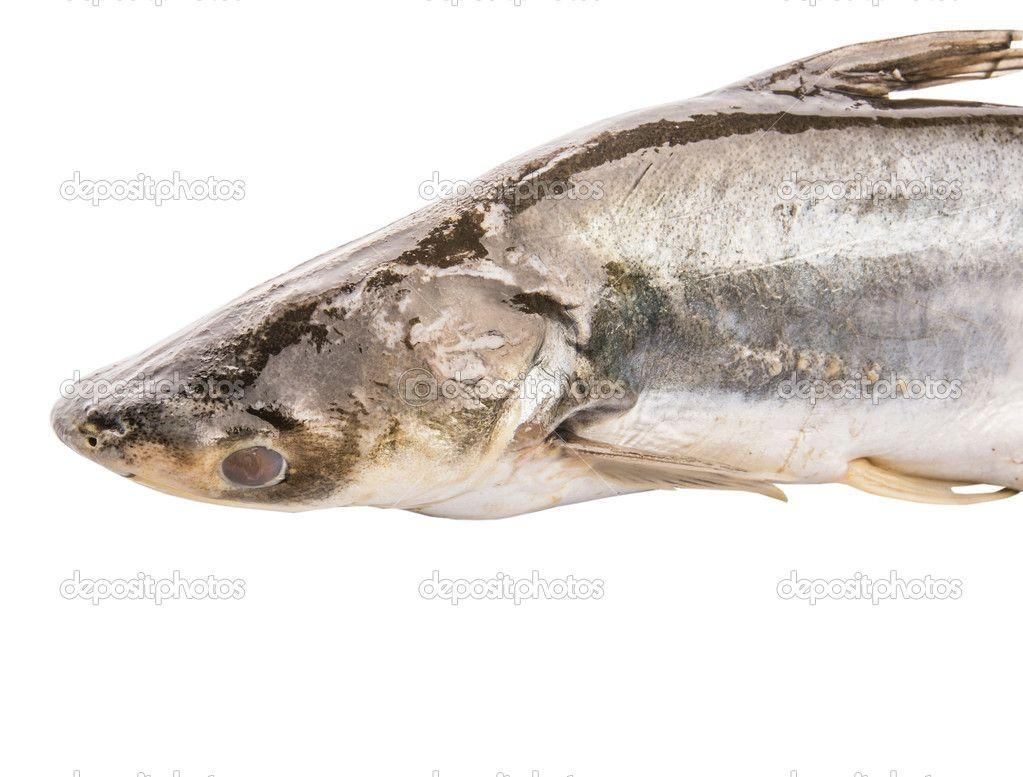Pangasius: (51, 22, 1023, 542)
